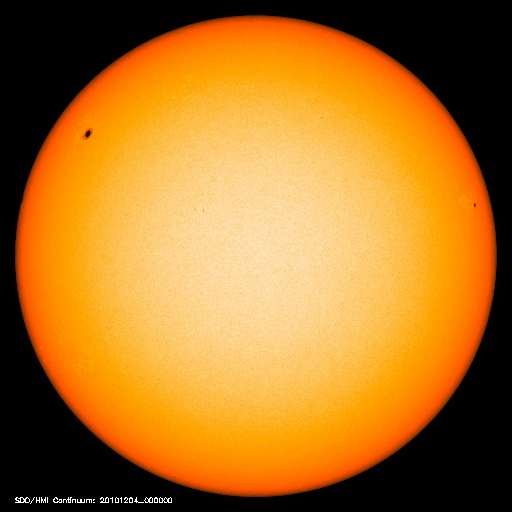sunspot: (69, 121, 105, 146), (462, 193, 485, 217)
